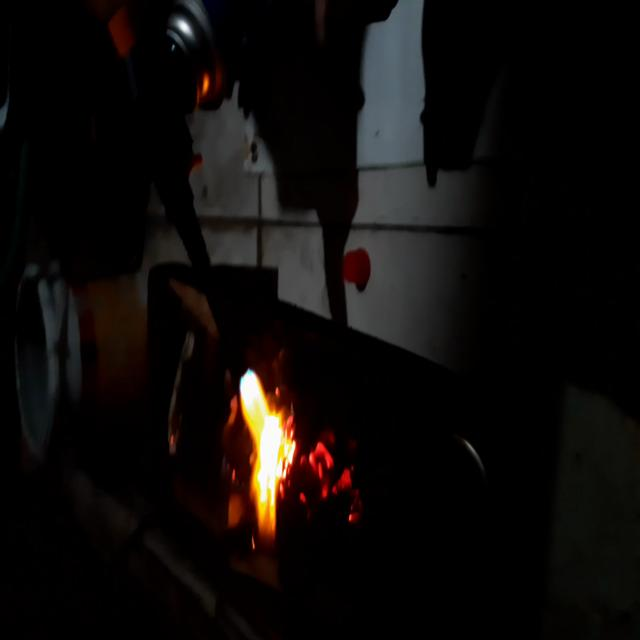Fire: (229, 358, 298, 546), (302, 420, 371, 550)
